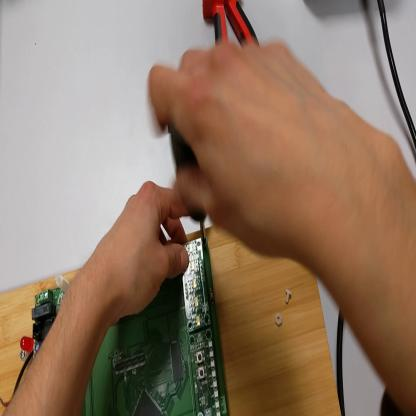hand: (154, 37, 351, 266), (94, 181, 190, 322)
low voltage board: (2, 240, 229, 413)
pliers: (202, 1, 262, 53)
screwdriver-: (170, 129, 207, 246)
working area: (1, 228, 342, 416)
